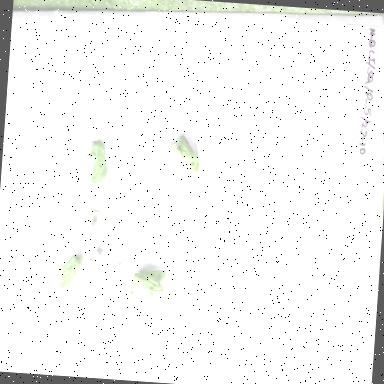abw: (162, 128, 206, 186), (44, 245, 86, 301), (127, 259, 178, 303), (80, 132, 113, 190)
